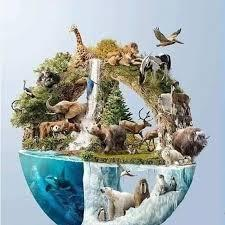Non_Gorille: (16, 18, 217, 225)
